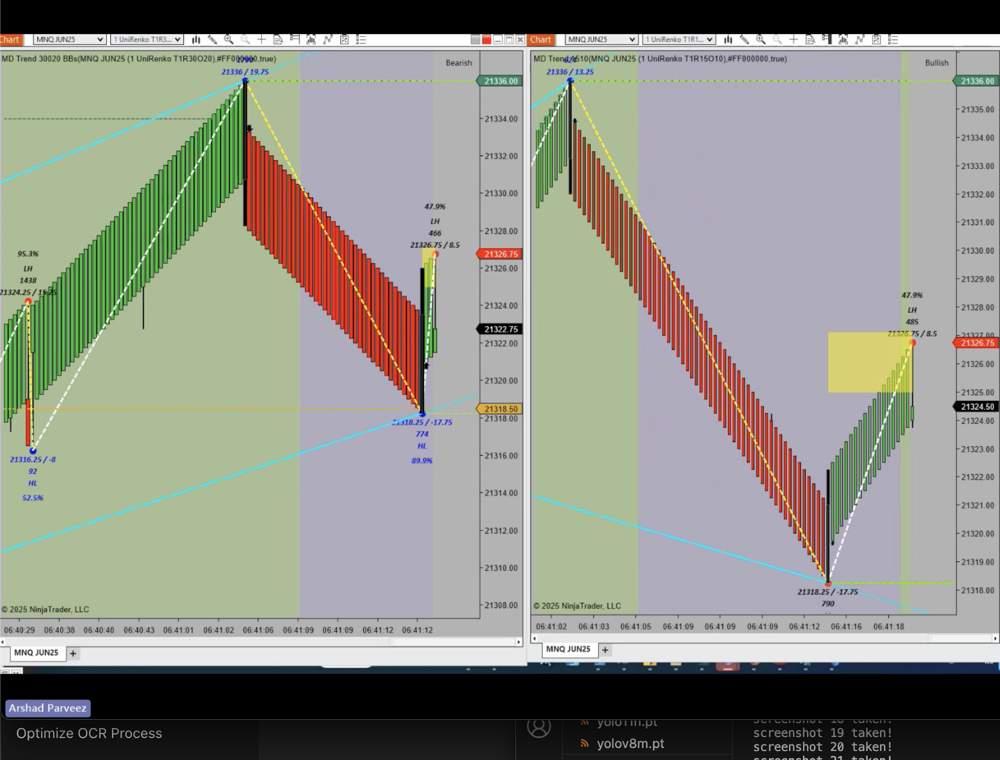HL: (411, 438, 435, 455), (22, 477, 43, 489)
LH: (19, 263, 39, 276), (903, 305, 923, 318), (426, 215, 447, 226)
